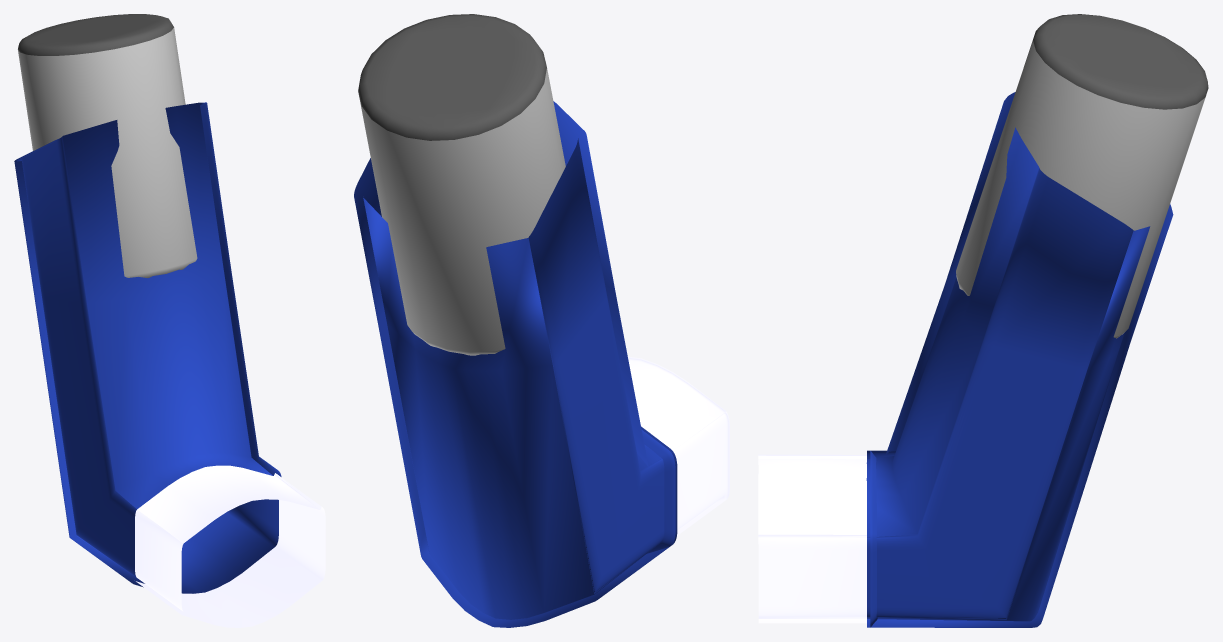
The model's file is inhaler.glb.
3 views of the same model, side by side, from view 1: azimuth 30°, elevation 25°; view 2: azimuth 150°, elevation 25°; view 3: azimuth 270°, elevation 25° (orthographic). The views are drawn at different scales.
Visible parts, largest first — view 1: inhaler; view 2: inhaler; view 3: inhaler.
Boxes of the visible parts, x1,y1,x2,y2 form: inhaler: (14, 14, 325, 627); inhaler: (354, 14, 729, 627); inhaler: (758, 14, 1208, 627).
Size of the model in its own units: 69.31 by 217 by 152.
